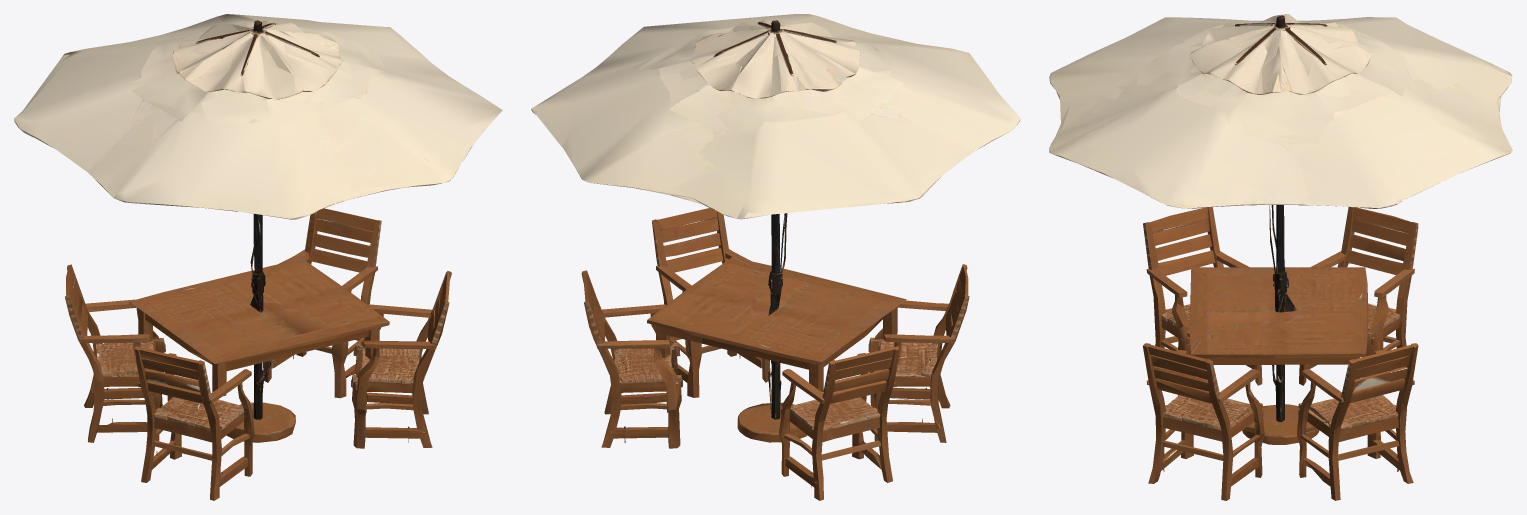
File: restaurant-table-v1.glb
3 views of the same model, side by side, from view 1: azimuth 30°, elevation 25°; view 2: azimuth 150°, elevation 25°; view 3: azimuth 270°, elevation 25° (orthographic).
Bounding box in the file's own units: 2.32 × 2.36 × 2.4.
Materials: 1 (1 with a texture image).
